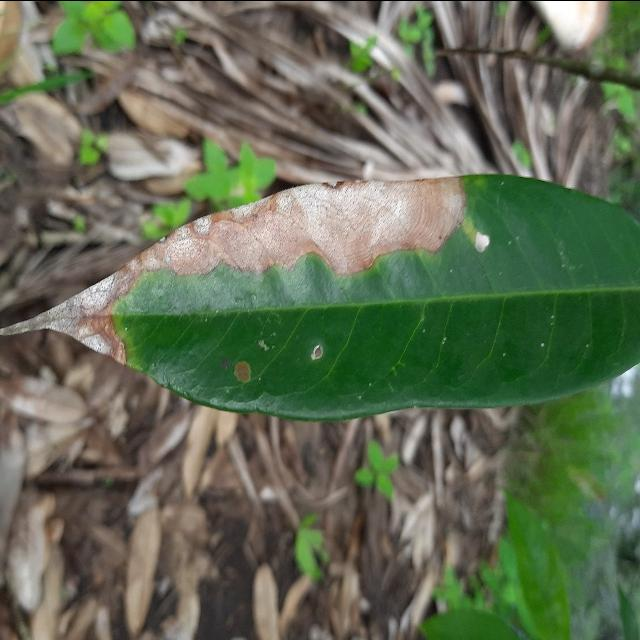Leaf Blight: (0, 165, 640, 427)
